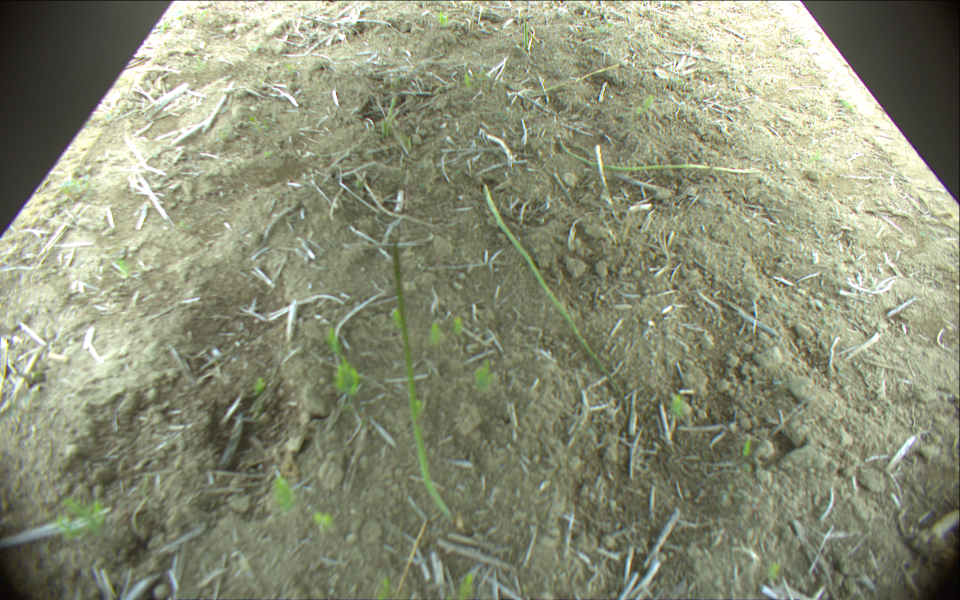aspa: (481, 183, 619, 393), (392, 240, 455, 522), (558, 134, 758, 176), (521, 13, 531, 49)
